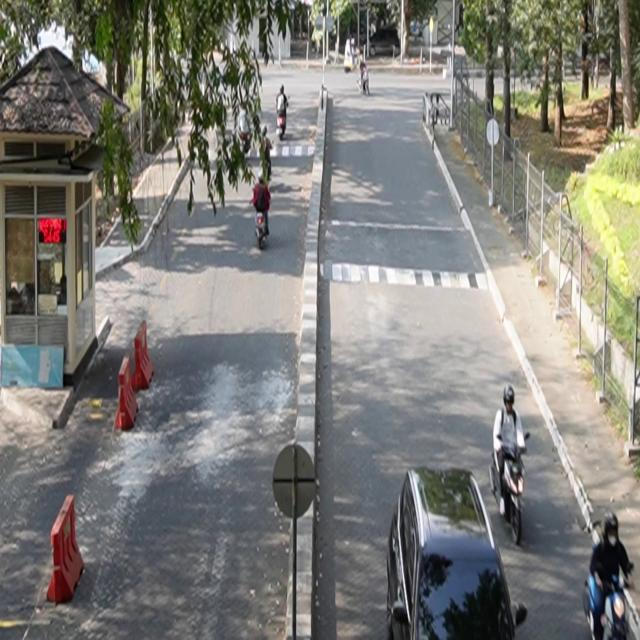car: (387, 467, 528, 640)
